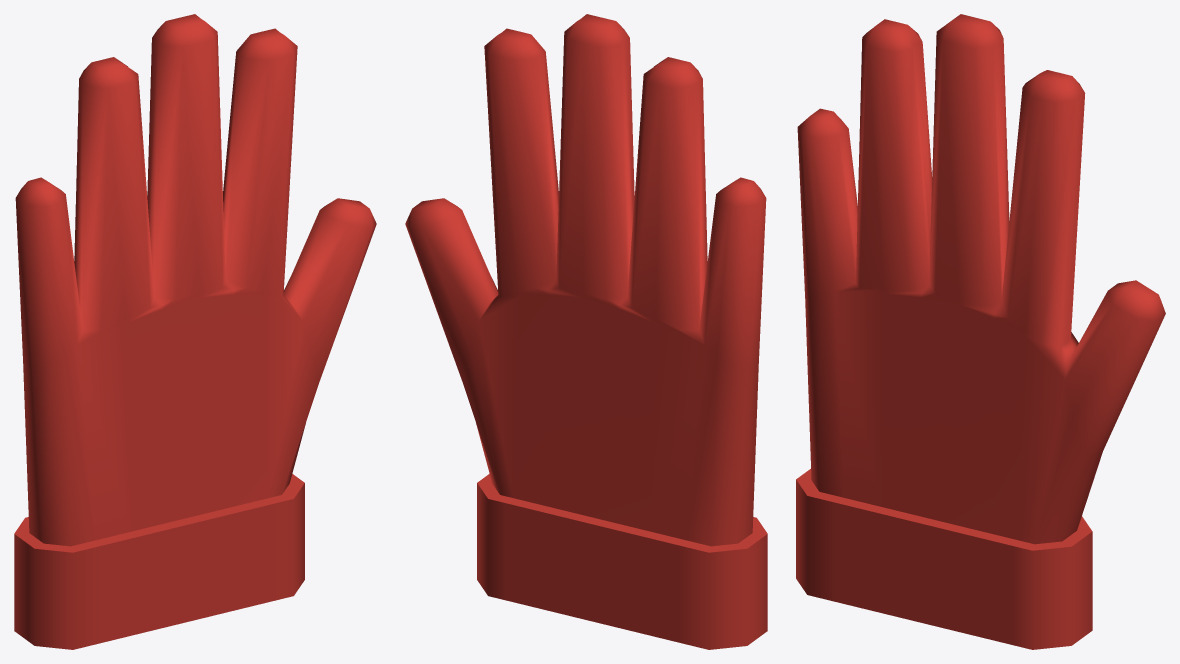
The model's file is Props_Gant.fbx.
3 renders of one model, left to right at view 1: azimuth 30°, elevation 25°; view 2: azimuth 150°, elevation 25°; view 3: azimuth 330°, elevation 25°, orthographic. The views are drawn at different scales.
Parts seen in each view (by area): view 1: gant; view 2: gant; view 3: gant.
Part boxes in pixels (box(x1,y1,x2,y2)): gant: box(14, 14, 376, 649); gant: box(405, 14, 767, 649); gant: box(796, 14, 1165, 649).
Bounding box in the file's own units: 9.98 × 15.69 × 2.35.
